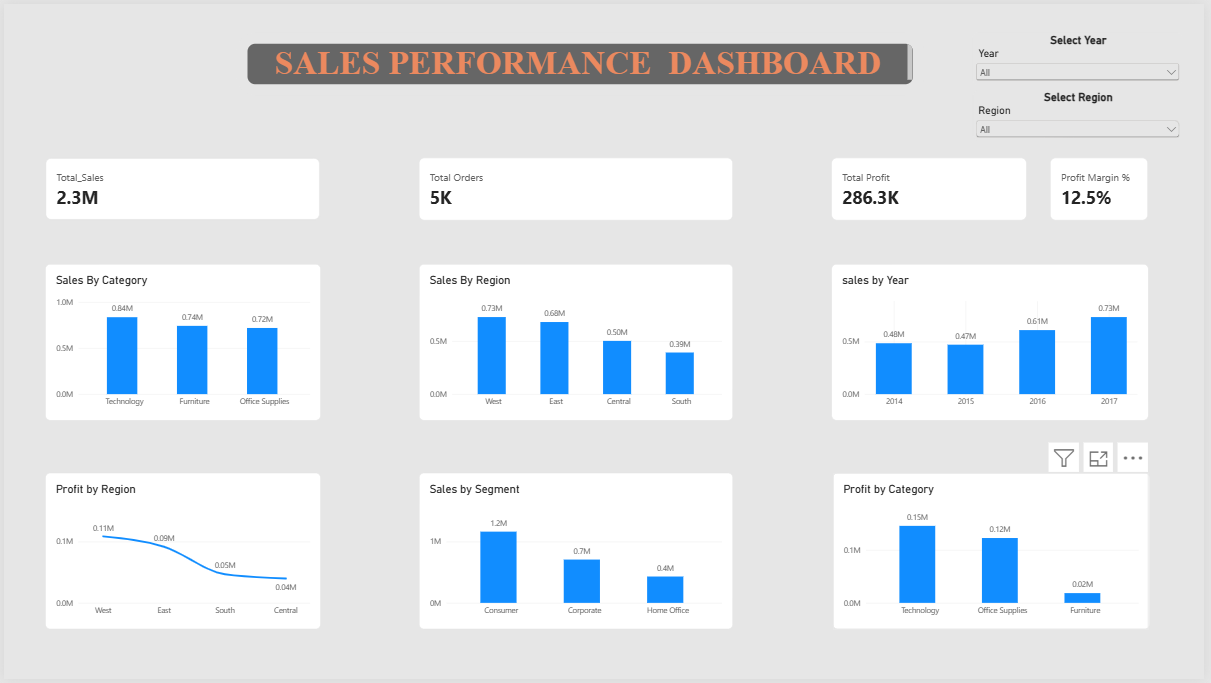

Layout of this report page (visuals, bound fields, positions):
{"tool":"powerbi","page":{"name":"Page 1","canvas":[1920,1080],"ordinal":0},"visuals":[{"type":"cardVisual","fields":{"Data":["superstore_db cleanedsalesdata.Total_Sales"]},"box":[65.9,245.5,440.9,100],"z":0},{"type":"cardVisual","fields":{"Data":["superstore_db cleanedsalesdata.Total Profit"]},"box":[1324,246,312,100],"z":1000},{"type":"cardVisual","fields":{"Data":["superstore_db cleanedsalesdata.Total Orders"]},"box":[664.8,245.5,502.3,100],"z":2000},{"type":"clusteredColumnChart","title":"Sales By Category","fields":{"Category":["superstore_db cleanedsalesdata.category"],"Y":["Sum(superstore_db cleanedsalesdata.sales)"]},"box":[65.9,415.9,440.9,250],"z":3000},{"type":"clusteredColumnChart","title":"Sales By Region","fields":{"Category":["superstore_db cleanedsalesdata.region"],"Y":["Sum(superstore_db cleanedsalesdata.sales)"]},"box":[664.8,415.9,502.2,250],"z":4000},{"type":"clusteredColumnChart","title":"sales by Year","fields":{"Category":["superstore_db cleanedsalesdata.order_date.Variation.Date Hierarchy.Year","superstore_db cleanedsalesdata.order_date.Variation.Date Hierarchy.Quarter","superstore_db cleanedsalesdata.order_date.Variation.Date Hierarchy.Month","superstore_db cleanedsalesdata.order_date.Variation.Date Hierarchy.Day"],"Y":["Sum(superstore_db cleanedsalesdata.sales)"]},"box":[1325,415.9,506.8,250],"z":5000},{"type":"clusteredColumnChart","title":"Sales by Segment","fields":{"Category":["superstore_db cleanedsalesdata.segment"],"Y":["Sum(superstore_db cleanedsalesdata.sales)"]},"box":[664.4,750,502.3,250],"z":6000},{"type":"clusteredColumnChart","title":"Profit by Category","fields":{"Category":["superstore_db cleanedsalesdata.category"],"Y":["Sum(superstore_db cleanedsalesdata.profit)"]},"box":[1325,750,506.8,250],"z":7000},{"type":"textbox","box":[372.7,45.5,1100,100],"z":8000},{"type":"lineChart","title":"Profit by Region","fields":{"Category":["superstore_db cleanedsalesdata.region"],"Y":["Sum(superstore_db cleanedsalesdata.profit)"]},"box":[66,750,441,250],"z":9000},{"type":"slicer","title":"Select Year","fields":{"Values":["superstore_db cleanedsalesdata.order_date.Variation.Date Hierarchy.Year"]},"box":[1550,46.4,336.4,84.5],"z":10000},{"type":"slicer","title":"Select Region","fields":{"Values":["superstore_db cleanedsalesdata.region"]},"box":[1550,138.2,336.4,80.9],"z":11000},{"type":"cardVisual","fields":{"Data":["superstore_db cleanedsalesdata.Profit Margin %"]},"box":[1674,246,156,100],"z":11001}]}

Visuals, with their boxes in screenshot pixels (x1, y1, x2, y2), scaled from the page's 1920x1080 canvas onto the 1211x683 screenshot:
cardVisual - superstore_db cleanedsalesdata.Total_Sales: select_region(42, 155, 320, 218)
cardVisual - superstore_db cleanedsalesdata.Total Profit: select_region(835, 156, 1032, 219)
cardVisual - superstore_db cleanedsalesdata.Total Orders: select_region(419, 155, 736, 218)
"Sales By Category" clusteredColumnChart: select_region(42, 263, 320, 421)
"Sales By Region" clusteredColumnChart: select_region(419, 263, 736, 421)
"sales by Year" clusteredColumnChart: select_region(836, 263, 1155, 421)
"Sales by Segment" clusteredColumnChart: select_region(419, 474, 736, 632)
"Profit by Category" clusteredColumnChart: select_region(836, 474, 1155, 632)
textbox: select_region(235, 29, 929, 92)
"Profit by Region" lineChart: select_region(42, 474, 320, 632)
"Select Year" slicer: select_region(978, 29, 1190, 83)
"Select Region" slicer: select_region(978, 87, 1190, 139)
cardVisual - superstore_db cleanedsalesdata.Profit Margin %: select_region(1056, 156, 1154, 219)
